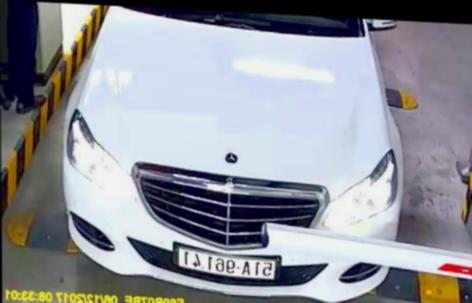License_Plate: (170, 245, 286, 282)
